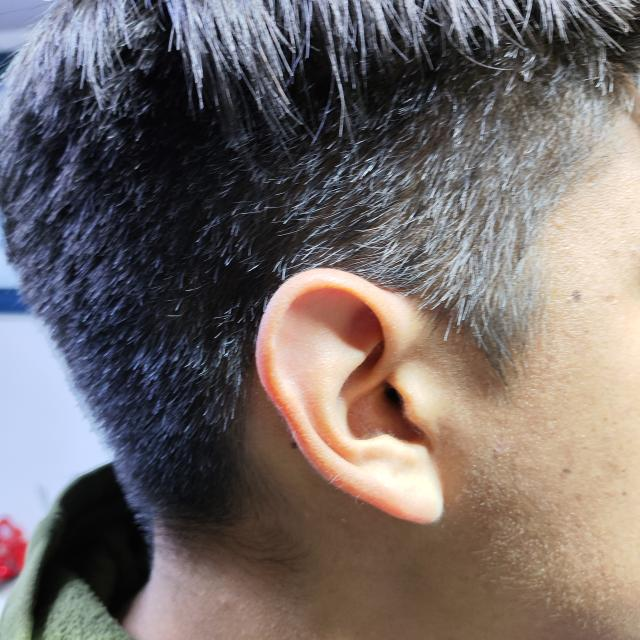ear: (255, 269, 445, 524)
